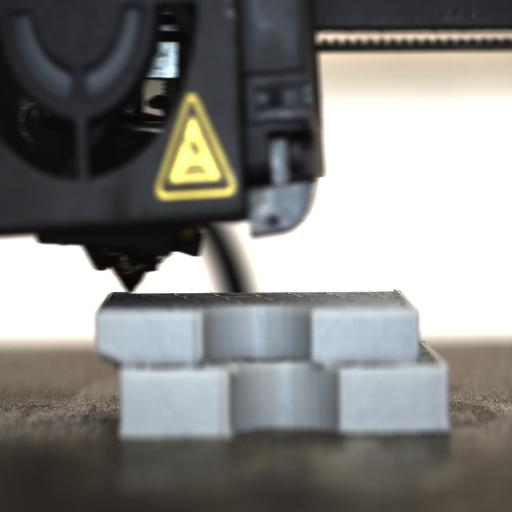layer_shift: (100, 350, 448, 375)
